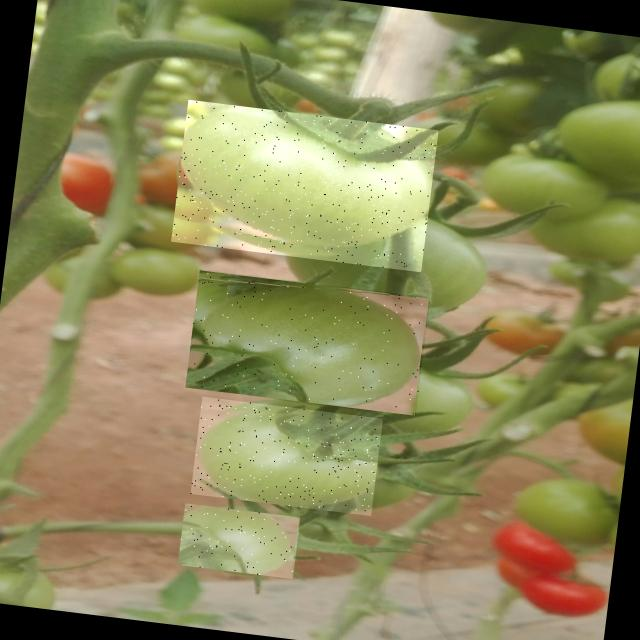Unripe Tomato: (170, 99, 438, 272), (184, 269, 429, 415), (190, 396, 382, 516), (176, 503, 300, 579)
